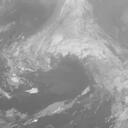cyclone: (43, 49, 96, 103)
